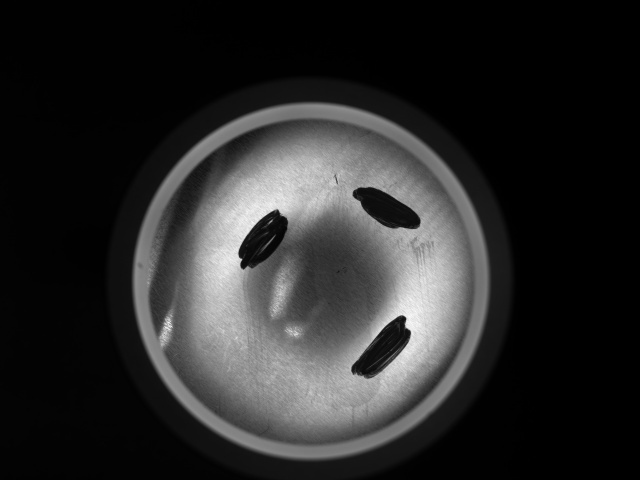zang_wu: (346, 312, 414, 380), (232, 205, 295, 274), (349, 180, 426, 236)
